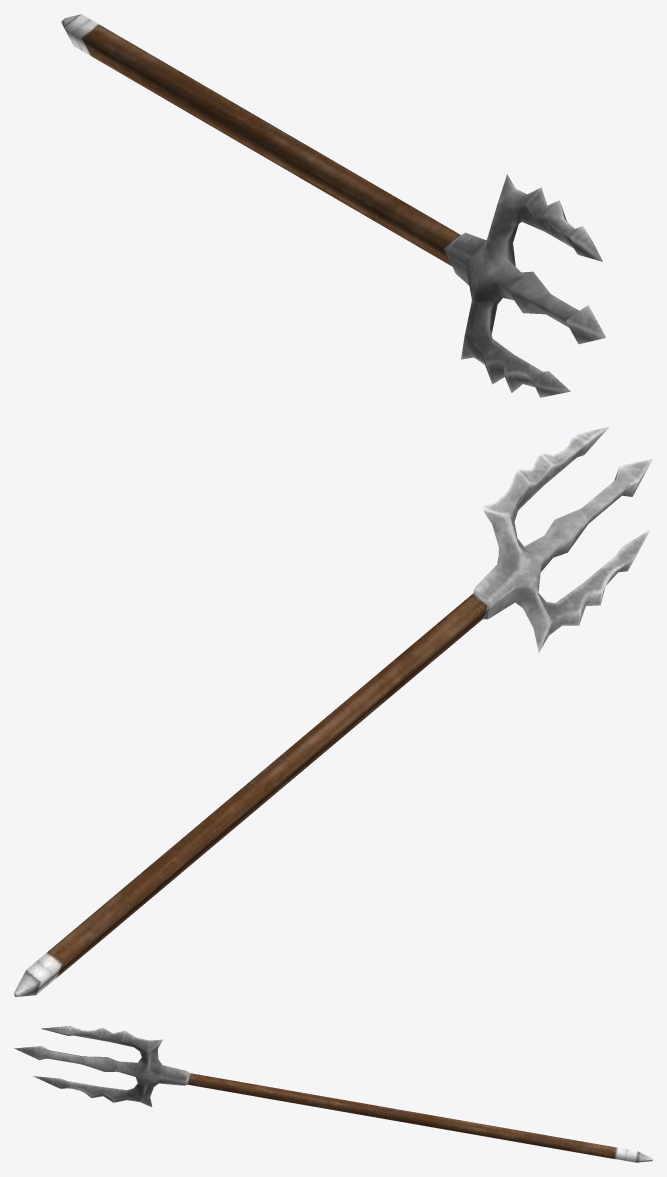
The model's file is weapon-bronzeweapons.glb.
The picture shows the model from 3 angles, top to bottom: view 1: azimuth 30°, elevation 25°; view 2: azimuth 150°, elevation 25°; view 3: azimuth 270°, elevation 25°; orthographic projection. The views are drawn at different scales.
Size of the model in its own units: 0.2976 by 0.5349 by 2.5.
Materials: 1 (1 with a texture image).
